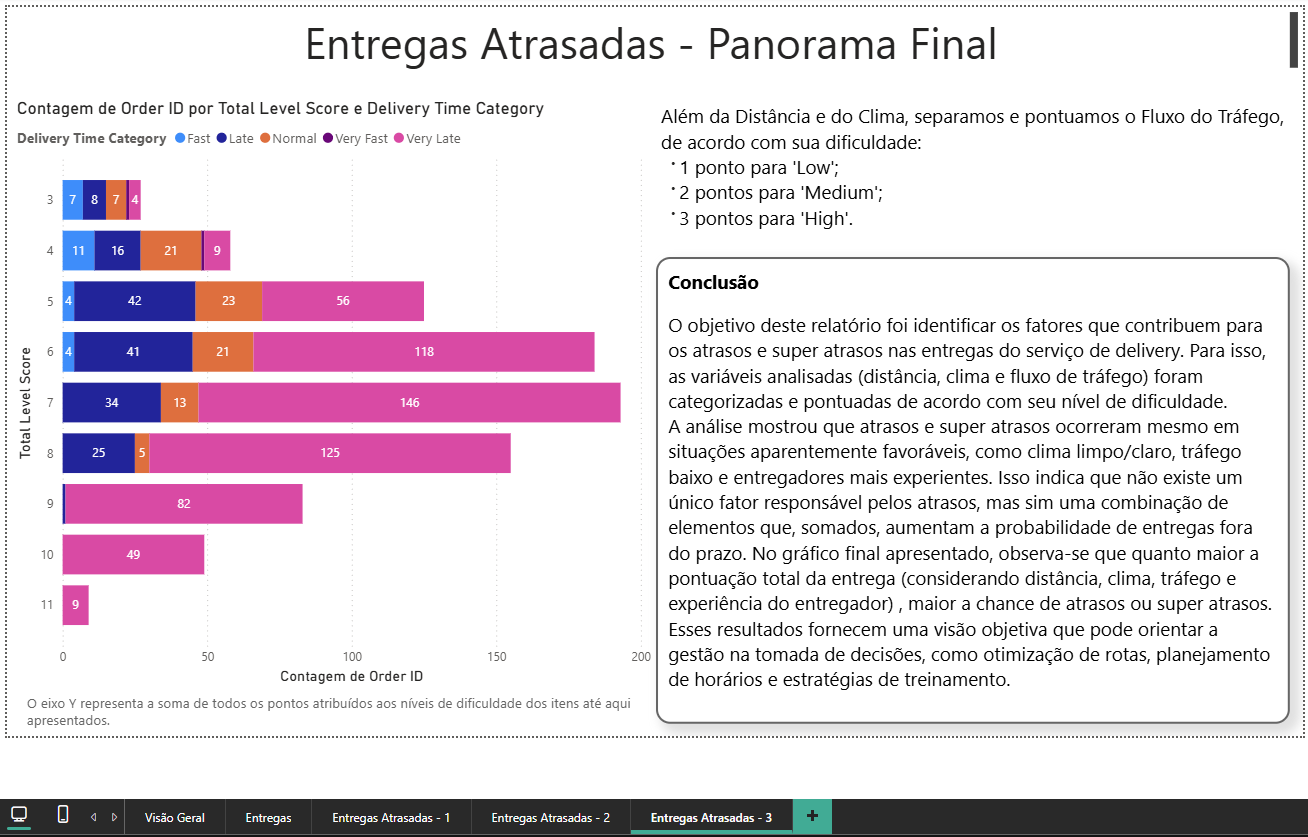

This screenshot's page, from the dashboard's own definition file:
{"tool":"powerbi","page":{"name":"Entregas Atrasadas - 3","canvas":[1280,720],"ordinal":4},"visuals":[{"type":"barChart","fields":{"Category":["df_food_delivery.Total Level Score"],"Y":["CountNonNull(df_food_delivery.Order ID)"],"Series":["df_food_delivery.Delivery Time Category"]},"box":[4.9,89.9,636,583.7],"z":0},{"type":"textbox","box":[0,0,1280,74.1],"z":1000},{"type":"textbox","box":[640.5,90.1,625.7,143.2],"z":2000},{"type":"textbox","box":[641,246.9,626.2,461.2],"z":3000},{"type":"textbox","box":[14.8,673.6,617.3,46.4],"z":3001}]}

Visuals, with their boxes on the page's 1280x720 design canvas (x1, y1, x2, y2). These are canvas units, not pixel positions in the 1308x837 screenshot, which may show the page scaled, cropped or inside an application window:
barChart - df_food_delivery.Total Level Score x CountNonNull(df_food_delivery.Order ID): [5,90,641,674]
textbox: [0,0,1280,74]
textbox: [640,90,1266,233]
textbox: [641,247,1267,708]
textbox: [15,674,632,720]
